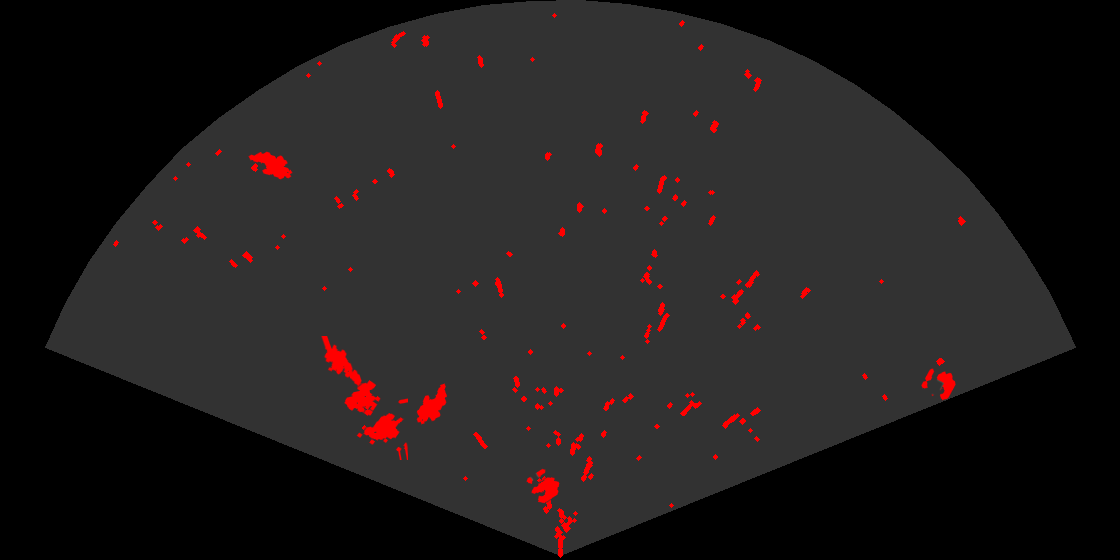AUV: (415, 382, 449, 426), (247, 150, 294, 181)
ball: (525, 467, 561, 505), (920, 367, 957, 402)
cage: (343, 379, 408, 460)
frogman: (320, 336, 366, 391)
